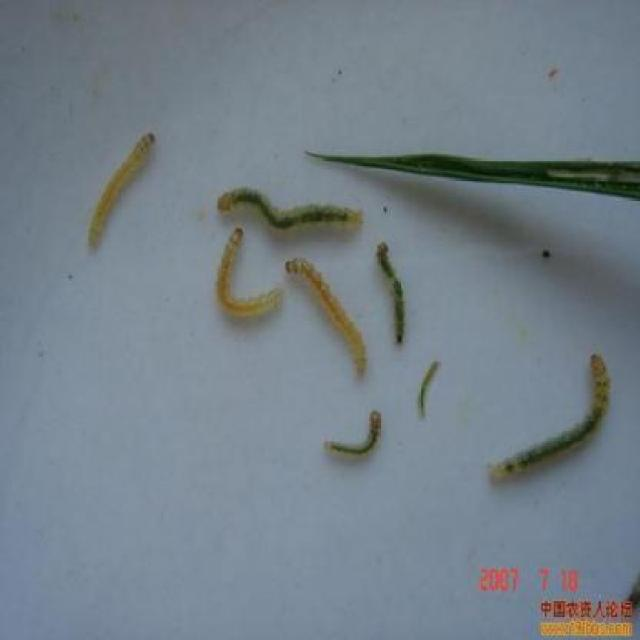leaf-folder: (484, 332, 638, 490), (280, 245, 377, 386), (213, 173, 372, 239), (85, 119, 162, 255), (352, 218, 422, 357), (210, 223, 278, 337), (405, 331, 453, 432), (319, 404, 386, 465)
